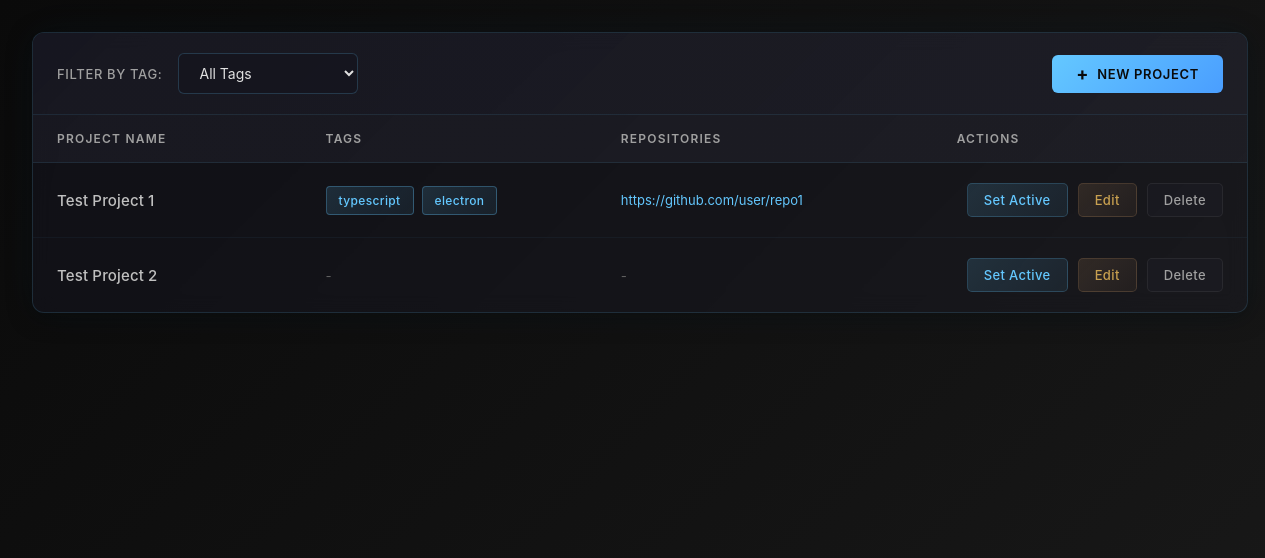
Scenario: ProjectsPage Component › Project Actions › should delete project when delete button is clicked
Expected: the text "Test Project 1" is shown, [33,162,302,238]
Click the button "Delete" in the row of "Test Project 1": (1185, 200) [1147,183,1223,217]
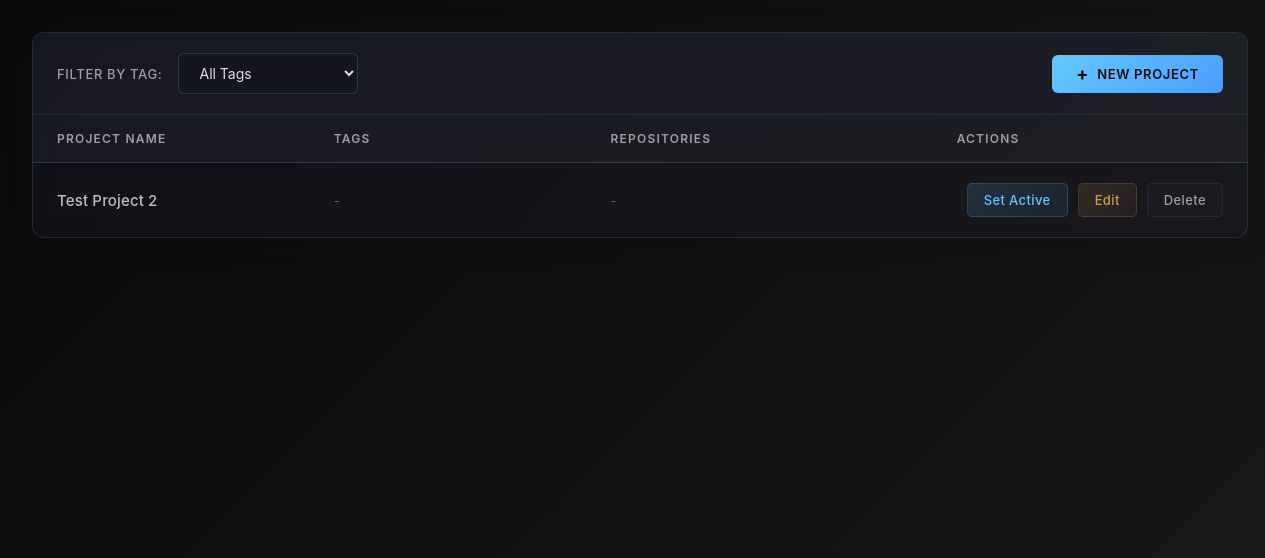
Expected: the text "Test Project 2" is shown, [33,162,310,237]
Result: the text "Test Project 1" is gone
